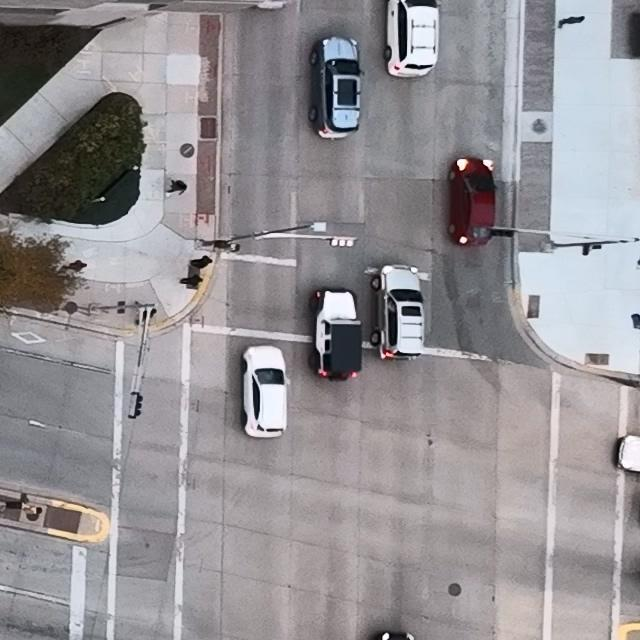car: (306, 36, 364, 139), (369, 265, 425, 362), (311, 288, 362, 381), (242, 344, 290, 441), (448, 158, 499, 246), (384, 0, 440, 76), (616, 435, 640, 474)
